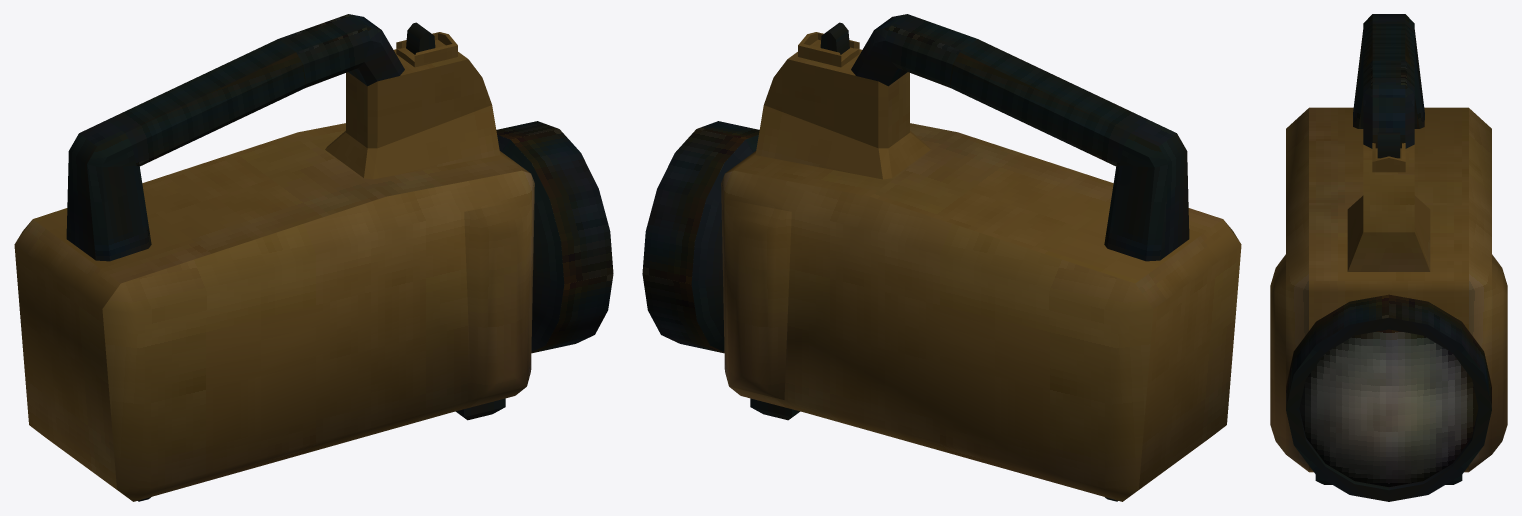
Rendered from shop-flashlight.glb.
The picture shows the model from 3 angles, left to right: view 1: azimuth 30°, elevation 25°; view 2: azimuth 150°, elevation 25°; view 3: azimuth 270°, elevation 25°; orthographic projection. The views are drawn at different scales.
Parts seen in each view (by area): view 1: flashlight_1; view 2: flashlight_1; view 3: flashlight_1.
Boxes of the visible parts, x1,y1,x2,y2 form: flashlight_1: [14, 14, 613, 501]; flashlight_1: [642, 14, 1241, 501]; flashlight_1: [1270, 14, 1507, 501].
Size of the model in its own units: 0.3801 by 0.2745 by 0.1656.
1 material, 1 textured.
